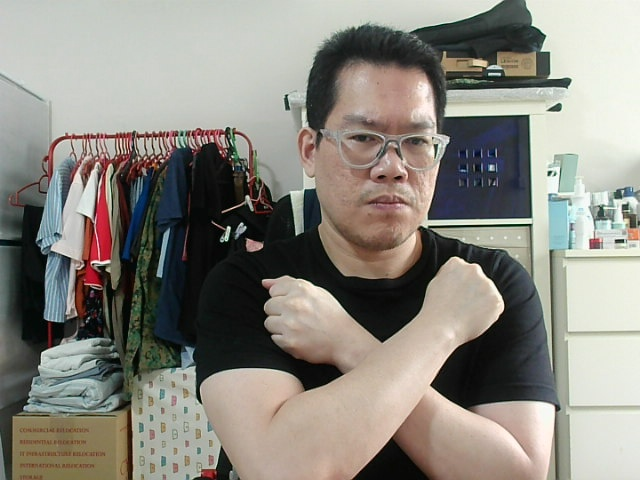love: (427, 267, 490, 337)
